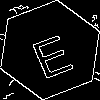E: (25, 25, 76, 80)
